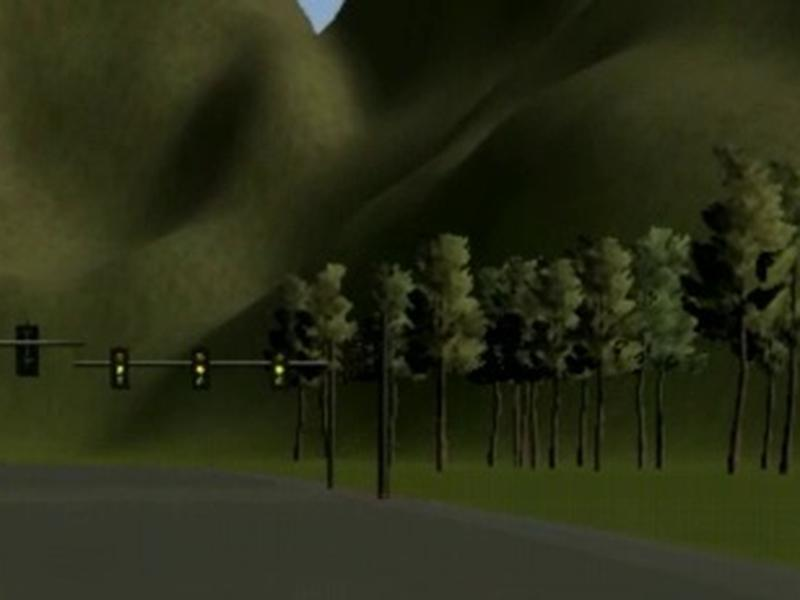Yellow: (192, 348, 210, 391), (111, 347, 129, 389), (272, 351, 286, 388)
